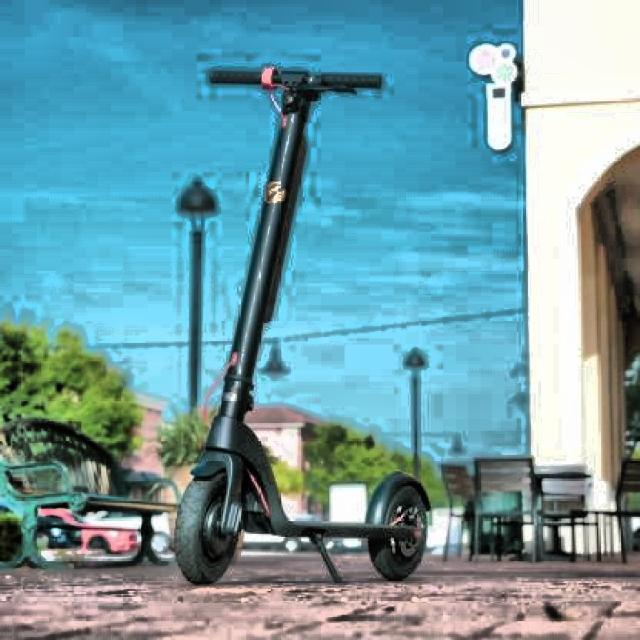bike: (170, 64, 434, 585)
